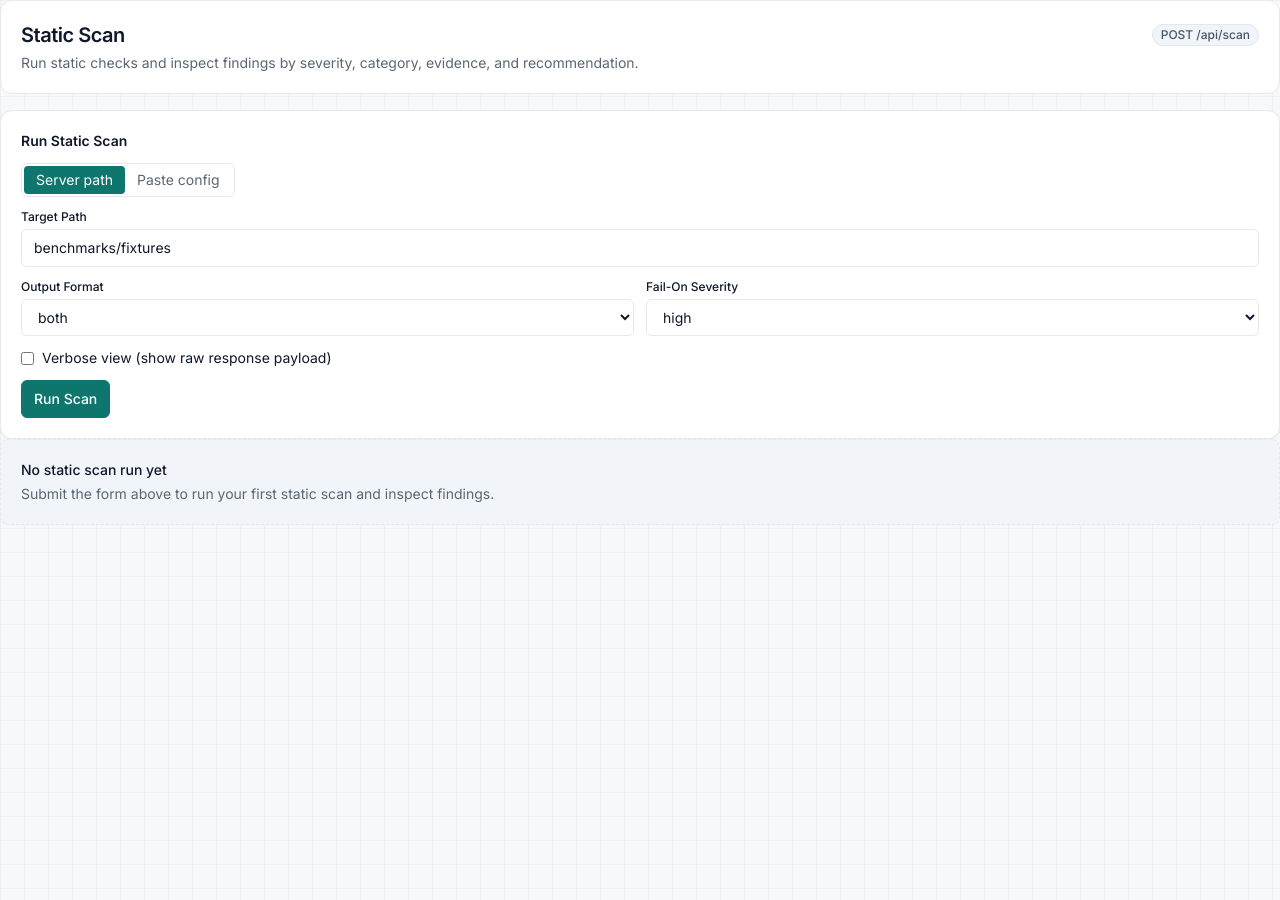
StaticScanPage › renders an error state when the scan fails
Click the button "Run Scan": click(66, 399) [21,380,110,418]
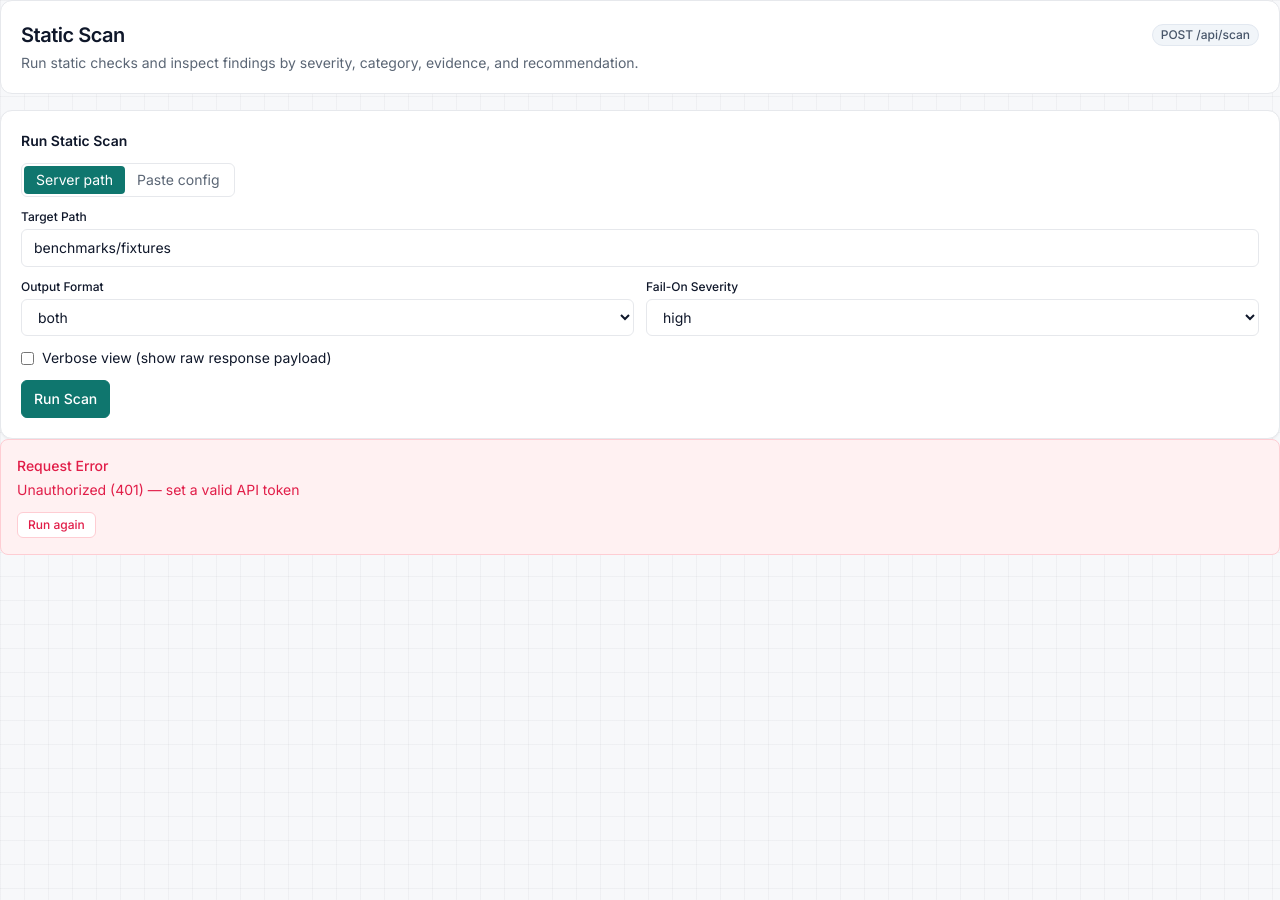
Expected: the text "Unauthorized (401) — set a valid API token" is shown, [17,481,300,498]
